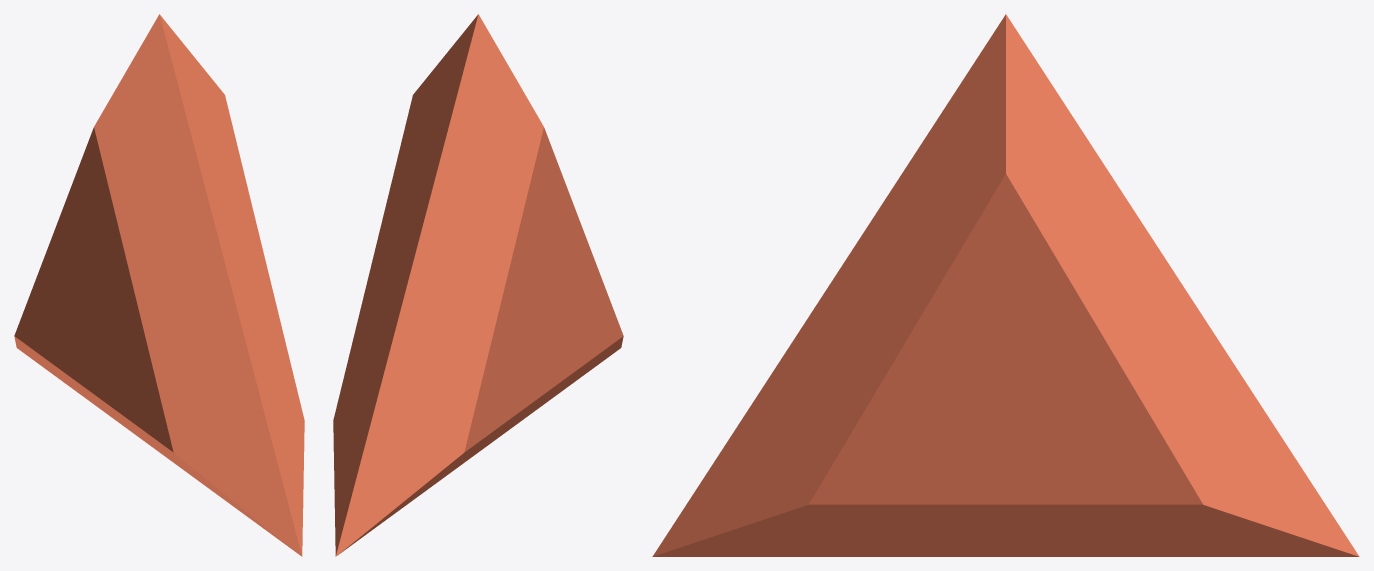
Rendered from Amber.fbx.
The picture shows the model from 3 angles, left to right: view 1: azimuth 30°, elevation 25°; view 2: azimuth 150°, elevation 25°; view 3: azimuth 270°, elevation 25°; orthographic projection. The views are drawn at different scales.
Parts seen in each view (by area): view 1: Amber; view 2: Amber; view 3: Amber.
Boxes of the visible parts, left/top/right/bottom form: Amber: left=14, top=14, right=304, bottom=556; Amber: left=333, top=14, right=623, bottom=556; Amber: left=652, top=14, right=1359, bottom=556.
Size of the model in its own units: 28.11 by 89.86 by 106.
